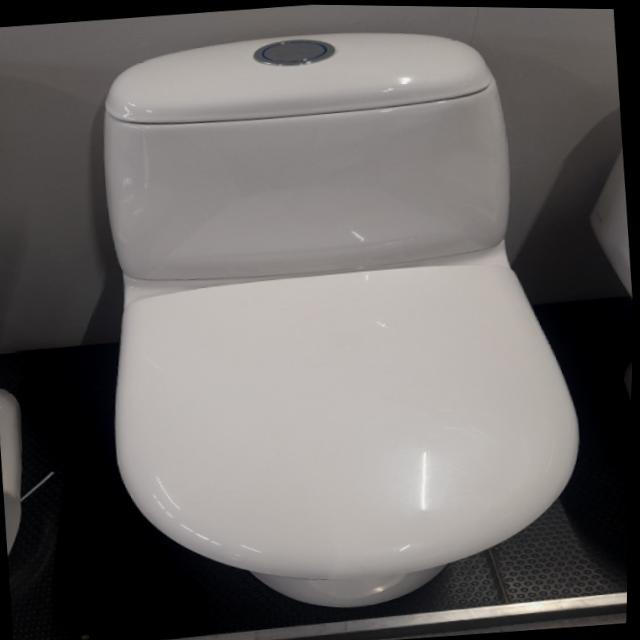toilet: (78, 8, 602, 628)
